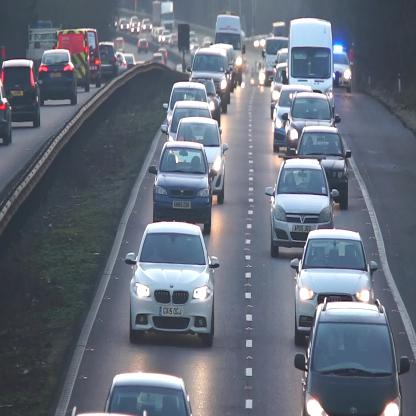car: (295, 300, 413, 415), (126, 220, 222, 350), (291, 228, 379, 349), (266, 158, 342, 258), (148, 142, 216, 236), (292, 127, 352, 210), (173, 117, 228, 207), (282, 92, 341, 156), (271, 84, 313, 154), (2, 60, 40, 129), (188, 48, 230, 110), (37, 49, 78, 104), (0, 78, 12, 146), (334, 50, 352, 94), (98, 40, 118, 78)
truck: (288, 18, 334, 106), (214, 13, 242, 78), (266, 37, 290, 87)
